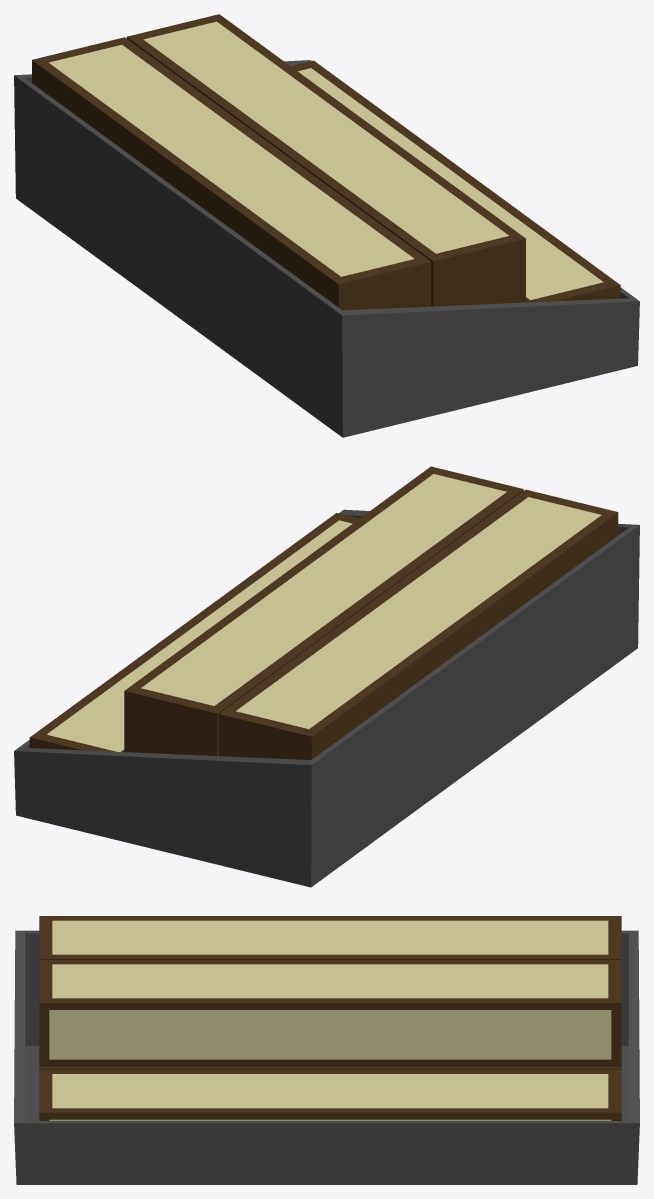
The model's file is BoxSmall.fbx.
3 renders of one model, top to bottom at view 1: azimuth 30°, elevation 25°; view 2: azimuth 150°, elevation 25°; view 3: azimuth 270°, elevation 25°, orthographic. The views are drawn at different scales.
Parts seen in each view (by area): view 1: Box_klein; view 2: Box_klein; view 3: Box_klein.
Part boxes in pixels (box(x1,y1,x2,y2)): Box_klein: box(14, 14, 639, 437); Box_klein: box(14, 466, 639, 887); Box_klein: box(14, 916, 639, 1184).
Size of the model in its own units: 77.12 by 35.46 by 148.
